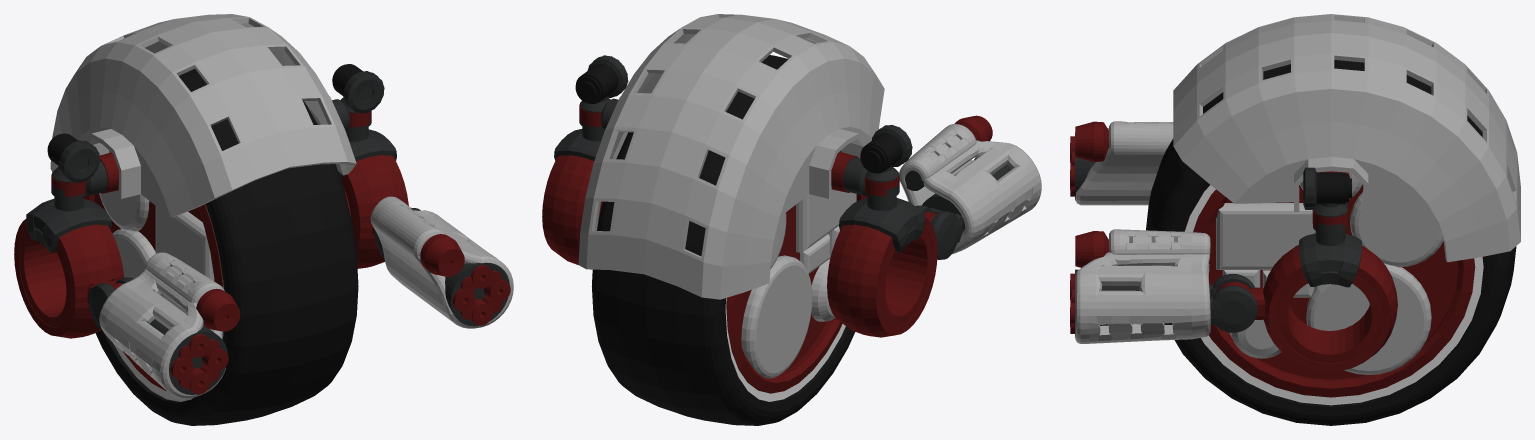
The model's file is RobotZ.fbx.
3 renders of one model, left to right at view 1: azimuth 30°, elevation 25°; view 2: azimuth 150°, elevation 25°; view 3: azimuth 270°, elevation 25°, orthographic.
Parts seen in each view (by area): view 1: Casco; view 2: Casco; view 3: Casco.
Part boxes in pixels (x1,y1,x2,y2): Casco: (14, 14, 513, 425); Casco: (542, 14, 1041, 425); Casco: (1070, 14, 1520, 425).
Size of the model in its own units: 228 by 231 by 252.
